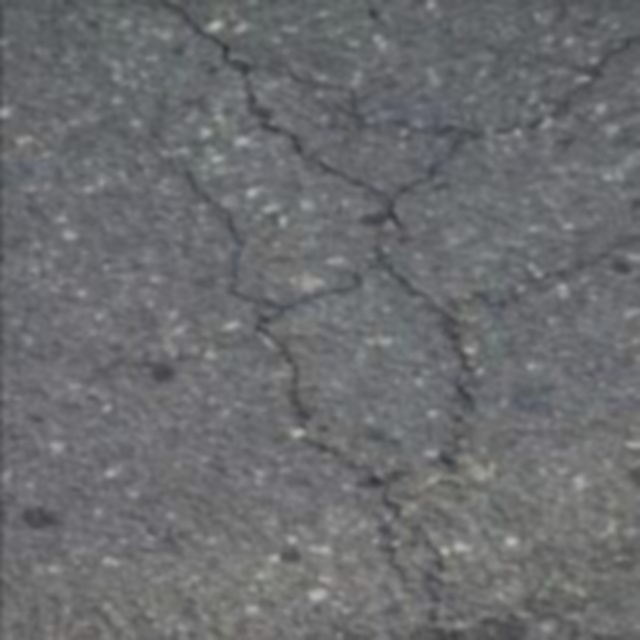SurfaceCrack: (190, 0, 640, 514)
